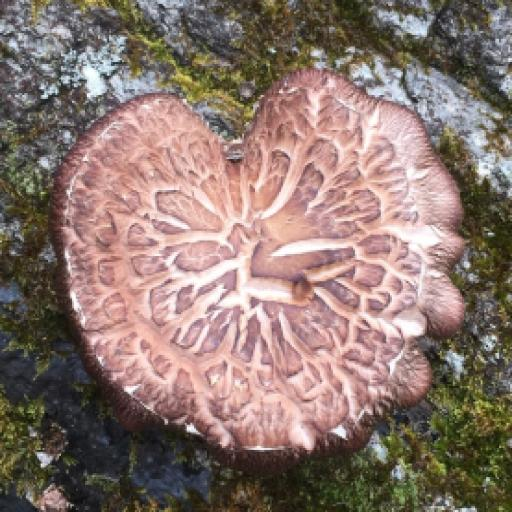Shiitake Mushroom: (56, 68, 473, 471)
